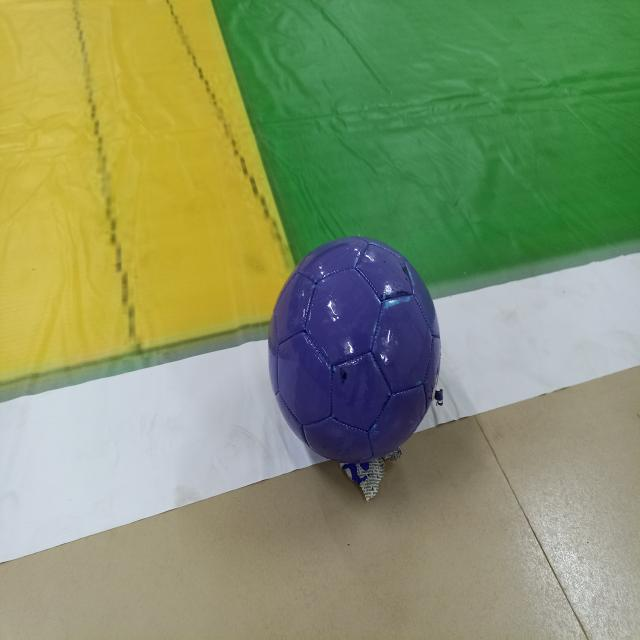purple_ball: (269, 231, 447, 478)
